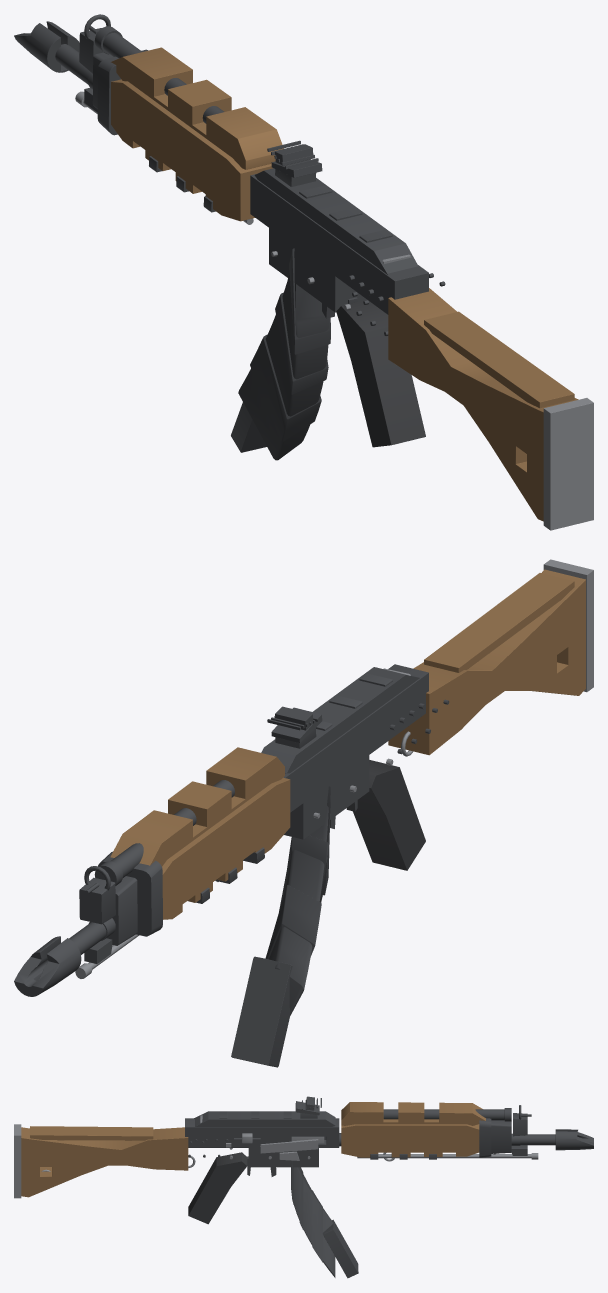
The model's file is W_rifle_ak.fbx.
3 renders of one model, top to bottom at view 1: azimuth 30°, elevation 25°; view 2: azimuth 150°, elevation 25°; view 3: azimuth 270°, elevation 25°, orthographic. The views are drawn at different scales.
Visible parts, largest first — view 1: W_rifle_ak; view 2: W_rifle_ak; view 3: W_rifle_ak.
Boxes of the visible parts, x1,y1,x2,y2 form: W_rifle_ak: (14,14,593,530); W_rifle_ak: (14,559,593,1067); W_rifle_ak: (14,1096,593,1278).
Size of the model in its own units: 0.0736 by 0.2896 by 0.865.
